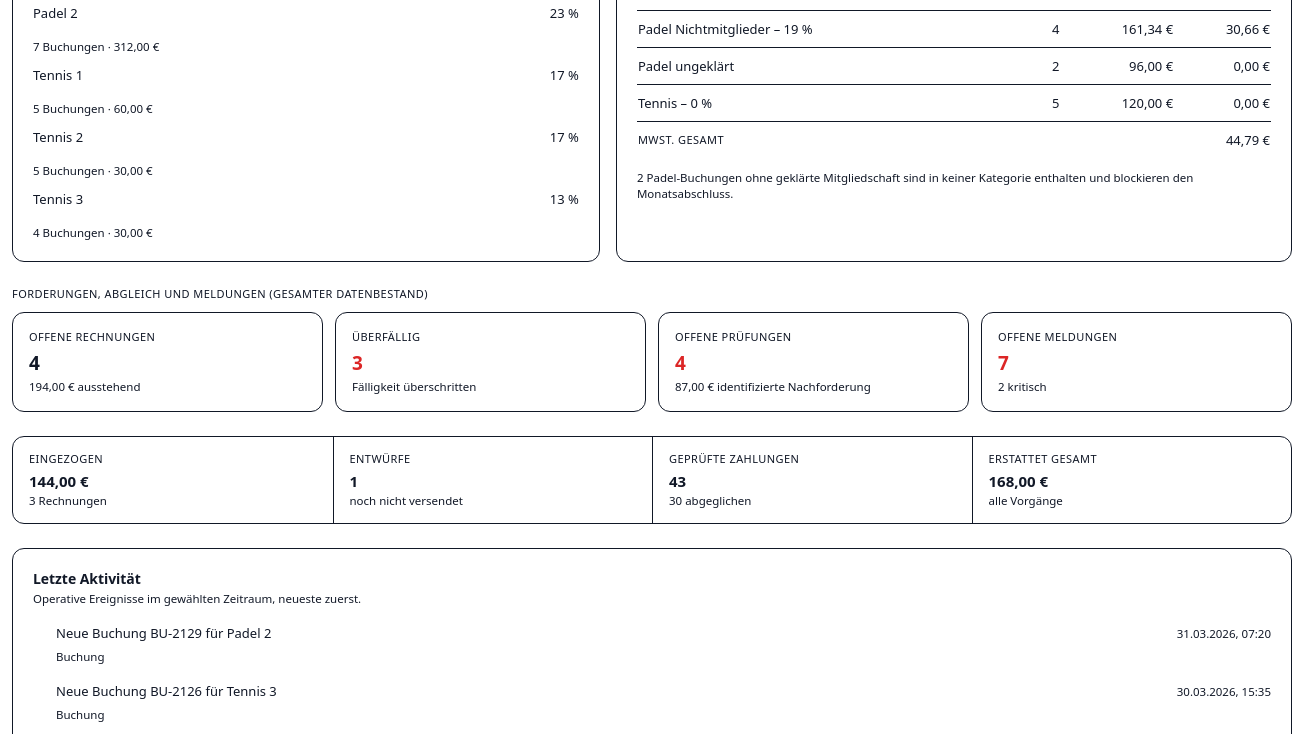
Test: drill-down from the overview › opens the target section with the filter already applied
(page scrolled)
Click the button with aria-label "Offene Meldungen im Alert Center öffnen" at (1058, 336), box left=981, top=312, right=1292, bottom=412
(page scrolled)
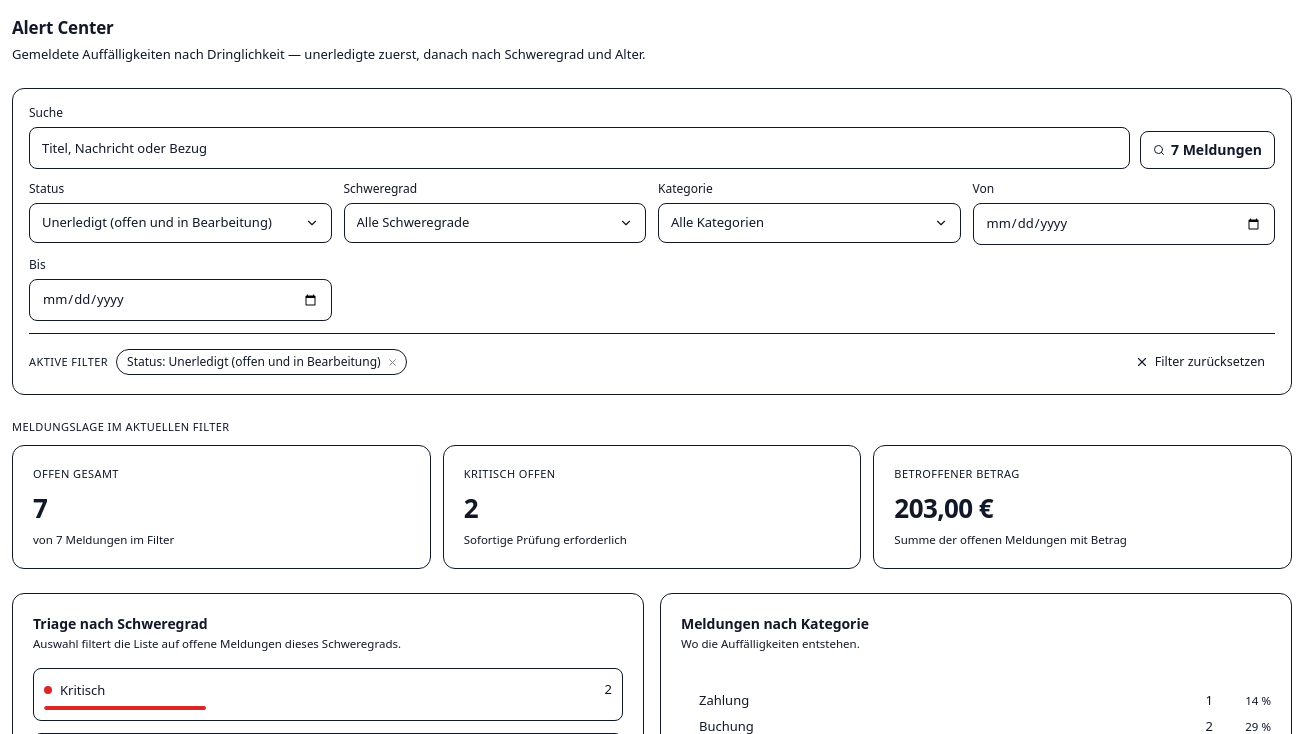
Result: the text "Aktive Filter" is shown at left=29, top=354, right=108, bottom=370
